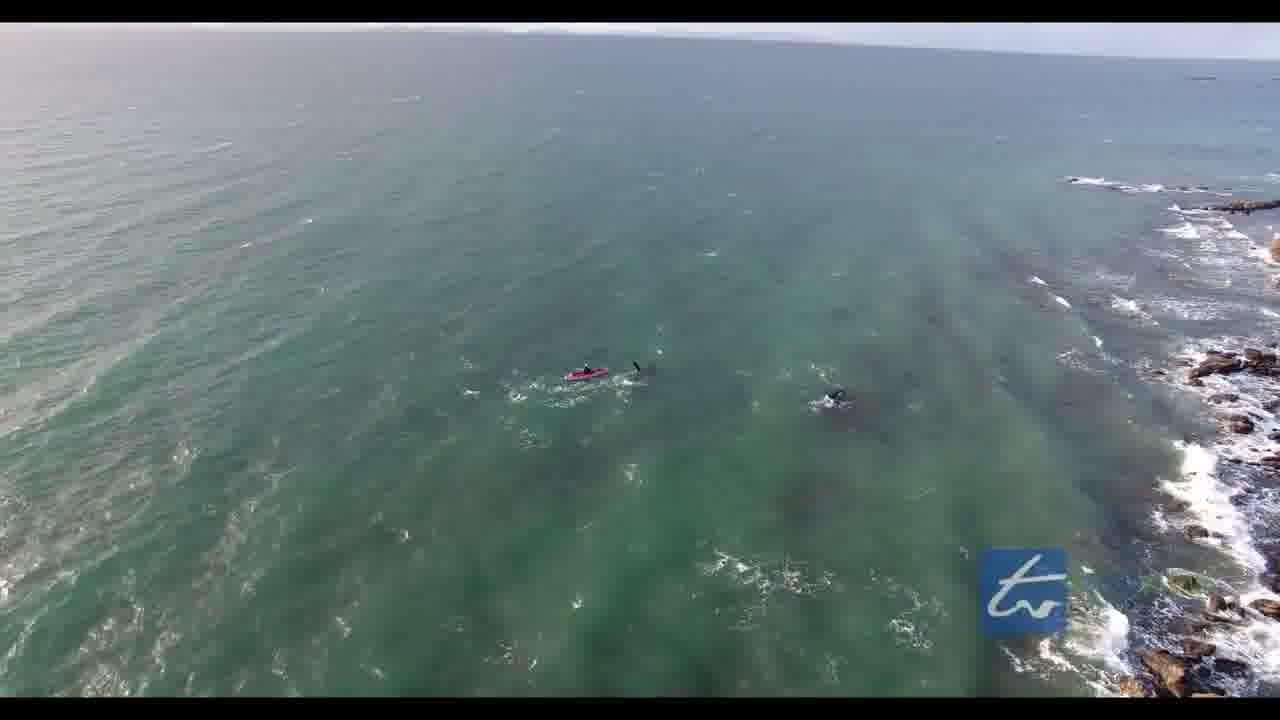swimmer: (623, 348, 645, 386), (575, 355, 594, 381)
